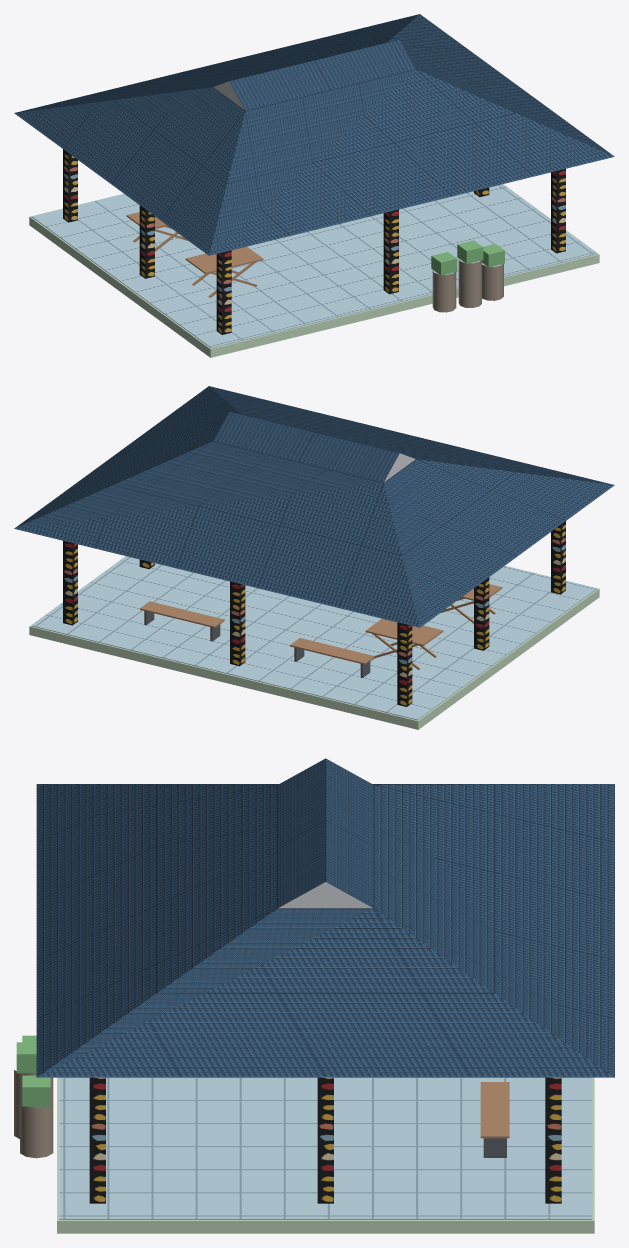
The model's file is sanggar_tari.glb.
3 renders of one model, top to bottom at view 1: azimuth 30°, elevation 25°; view 2: azimuth 150°, elevation 25°; view 3: azimuth 270°, elevation 25°, orthographic. The views are drawn at different scales.
Parts seen in each view (by area): view 1: Atap_Limasan_Biru_Tua, Lantai_Keramik_Biru_Muda, Tiang_Mozaik_Warna_Warni, Ring_Balok_Hijau_Sage, Pot_Batang_Kayu_Depan, Meja_XFrame_Dan_Bangku_Kayu, Tanaman_Pot_Hijau; view 2: Atap_Limasan_Biru_Tua, Lantai_Keramik_Biru_Muda, Tiang_Mozaik_Warna_Warni, Ring_Balok_Hijau_Sage, Meja_XFrame_Dan_Bangku_Kayu, Rangka_Bangku_Besi; view 3: Atap_Limasan_Biru_Tua, Lantai_Keramik_Biru_Muda, Ring_Balok_Hijau_Sage, Tiang_Mozaik_Warna_Warni, Pot_Batang_Kayu_Depan, Meja_XFrame_Dan_Bangku_Kayu, Tanaman_Pot_Hijau, Rangka_Baja_Ringan_Atap.
Part boxes in pixels (bbox=[...]): Atap_Limasan_Biru_Tua: bbox=[14, 14, 614, 255]; Lantai_Keramik_Biru_Muda: bbox=[31, 184, 597, 348]; Tiang_Mozaik_Warna_Warni: bbox=[63, 149, 565, 334]; Ring_Balok_Hijau_Sage: bbox=[29, 184, 599, 357]; Pot_Batang_Kayu_Depan: bbox=[432, 259, 503, 312]; Meja_XFrame_Dan_Bangku_Kayu: bbox=[126, 212, 263, 297]; Tanaman_Pot_Hijau: bbox=[431, 240, 504, 275]; Atap_Limasan_Biru_Tua: bbox=[14, 386, 614, 627]; Lantai_Keramik_Biru_Muda: bbox=[31, 556, 597, 720]; Tiang_Mozaik_Warna_Warni: bbox=[63, 521, 565, 706]; Ring_Balok_Hijau_Sage: bbox=[29, 556, 599, 729]; Meja_XFrame_Dan_Bangku_Kayu: bbox=[140, 584, 502, 669]; Rangka_Bangku_Besi: bbox=[144, 611, 370, 677]; Atap_Limasan_Biru_Tua: bbox=[36, 758, 614, 1077]; Lantai_Keramik_Biru_Muda: bbox=[59, 1077, 592, 1219]; Ring_Balok_Hijau_Sage: bbox=[57, 1077, 594, 1233]; Tiang_Mozaik_Warna_Warni: bbox=[89, 1077, 561, 1203]; Pot_Batang_Kayu_Depan: bbox=[14, 1070, 53, 1158]; Meja_XFrame_Dan_Bangku_Kayu: bbox=[480, 1082, 509, 1138]; Tanaman_Pot_Hijau: bbox=[16, 1035, 50, 1106]; Rangka_Baja_Ringan_Atap: bbox=[278, 882, 372, 963].
Bounding box in the file's own units: 11.9 × 5.15 × 10.29.
11 materials, 4 textured.
